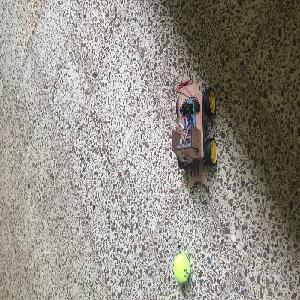Ball: (173, 254, 189, 282)
Robot: (172, 82, 218, 188)
